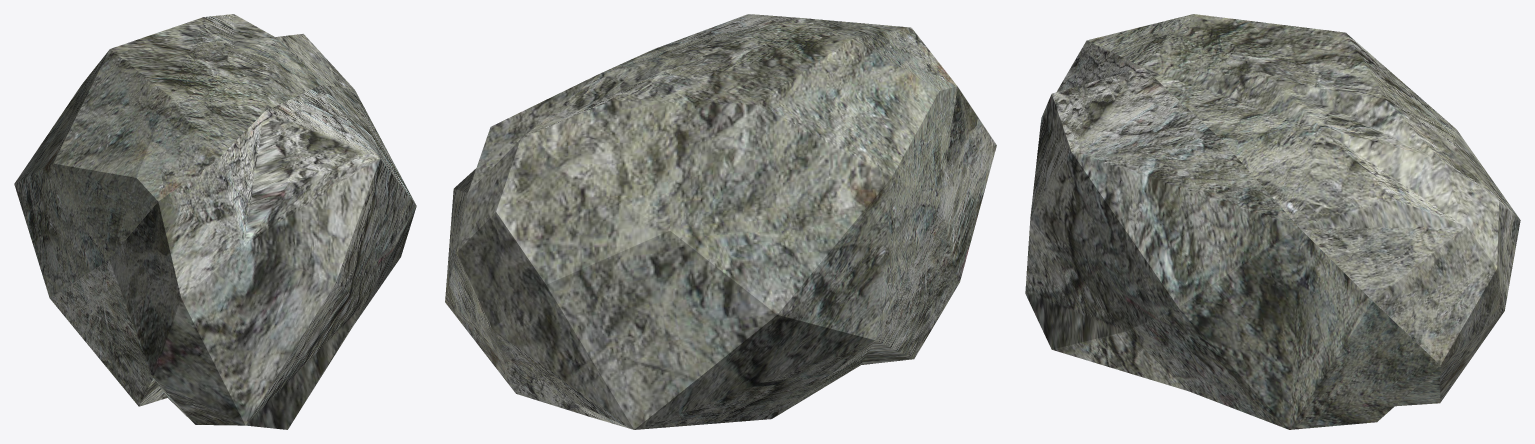
The model's file is rock_1.fbx.
3 views of the same model, side by side, from view 1: azimuth 30°, elevation 25°; view 2: azimuth 150°, elevation 25°; view 3: azimuth 270°, elevation 25° (orthographic). The views are drawn at different scales.
Parts seen in each view (by area): view 1: Cube.010; view 2: Cube.010; view 3: Cube.010.
Boxes of the visible parts, bbox=[...] form: Cube.010: bbox=[14, 14, 416, 429]; Cube.010: bbox=[445, 14, 996, 429]; Cube.010: bbox=[1025, 14, 1520, 429].
Size of the model in its own units: 1314 by 1068 by 1527.
